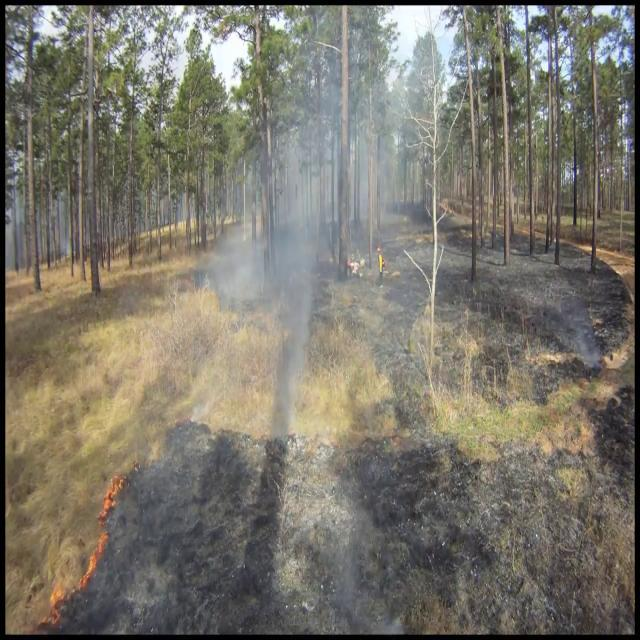Smoke: (210, 56, 422, 310)
